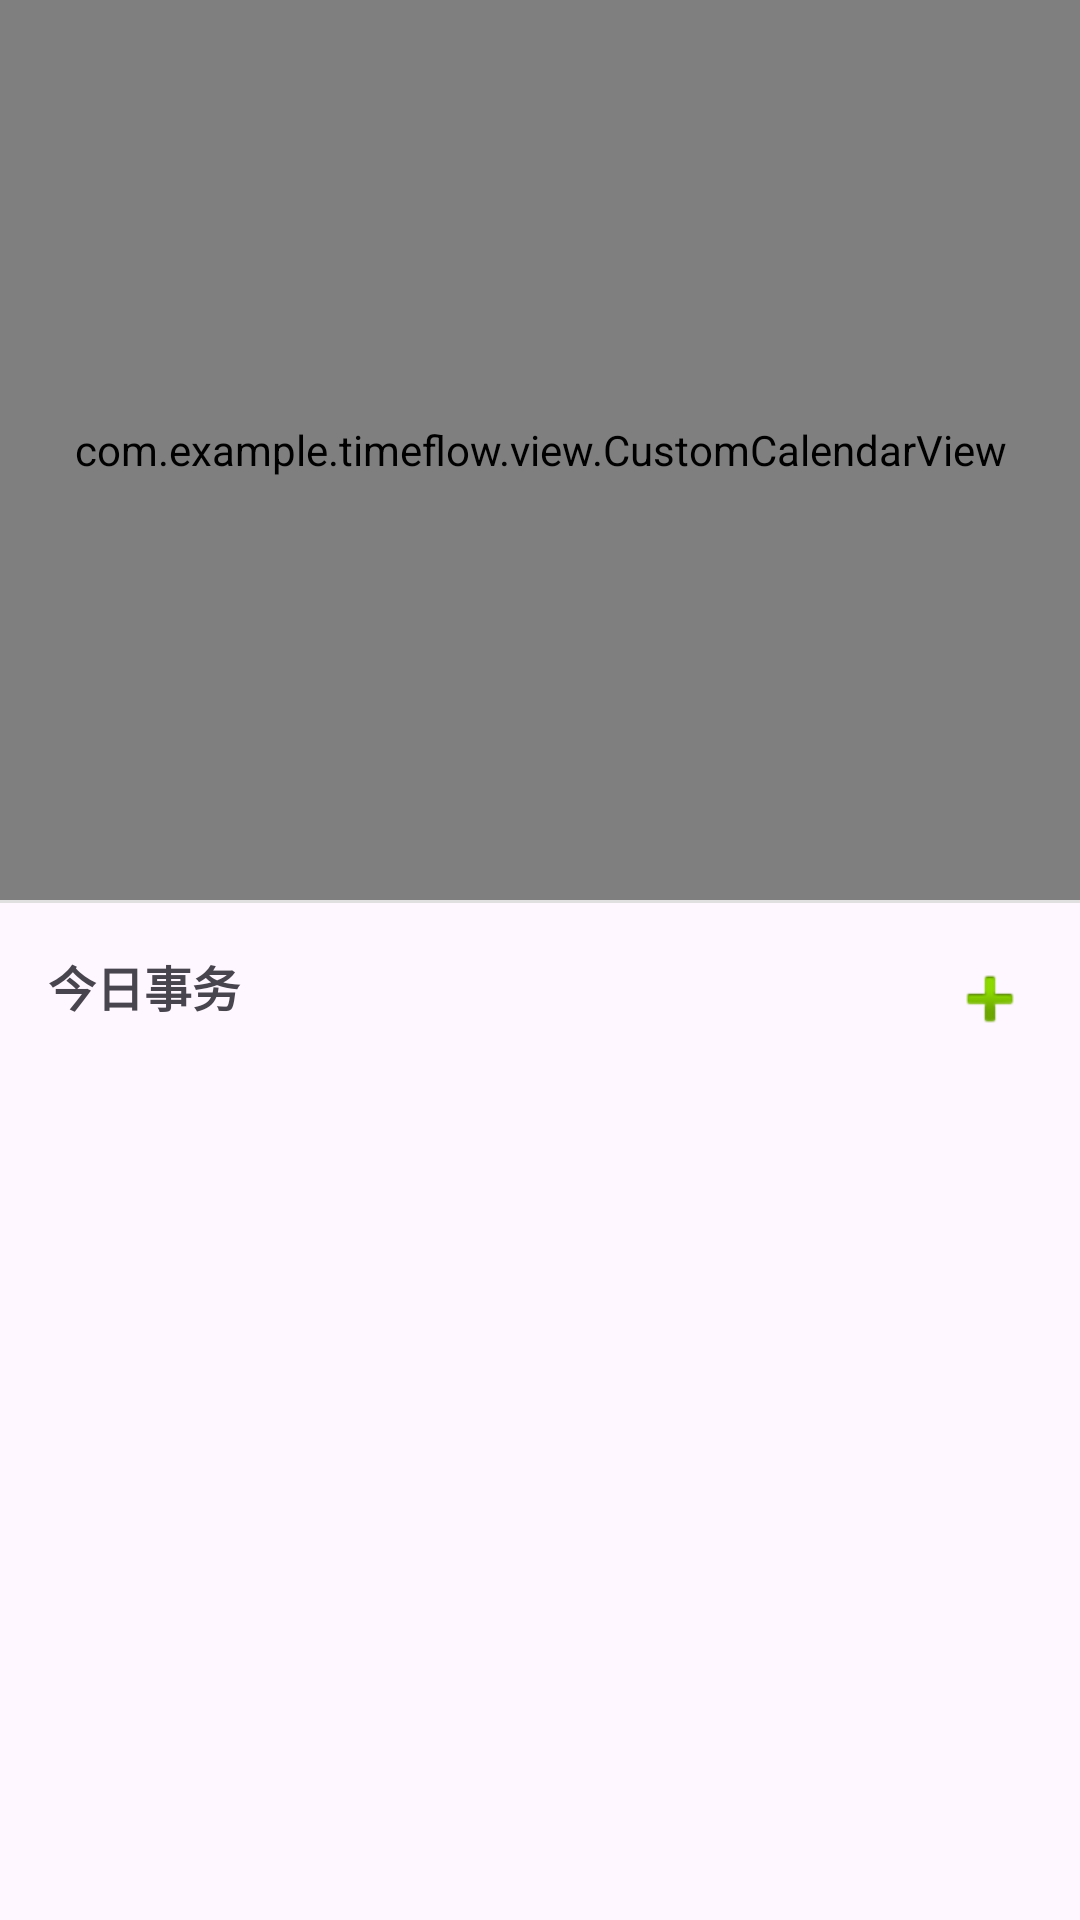

Icons on this 1080*1920 Android screen, each with the point to tap as (x=x, y=y):
添加: (x=990, y=999)
